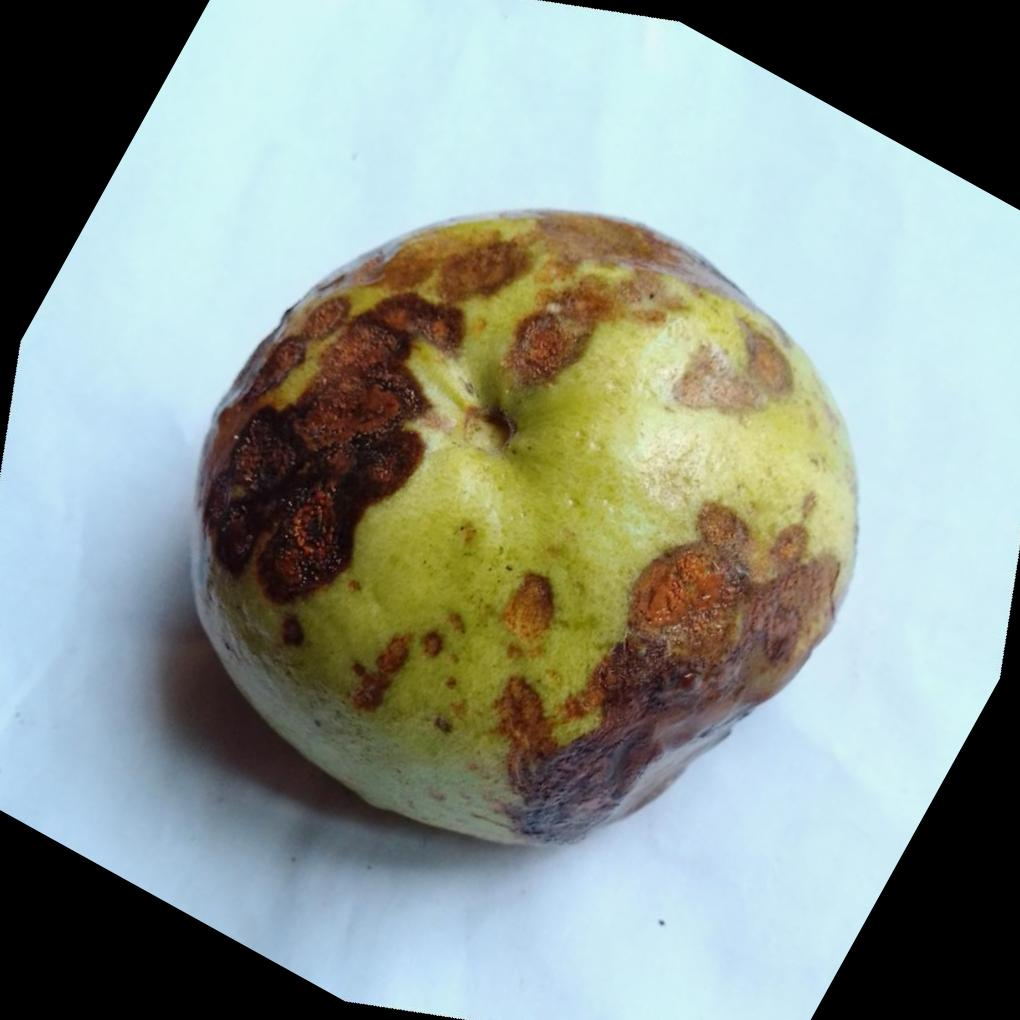FreshOrange: (189, 207, 864, 851)
